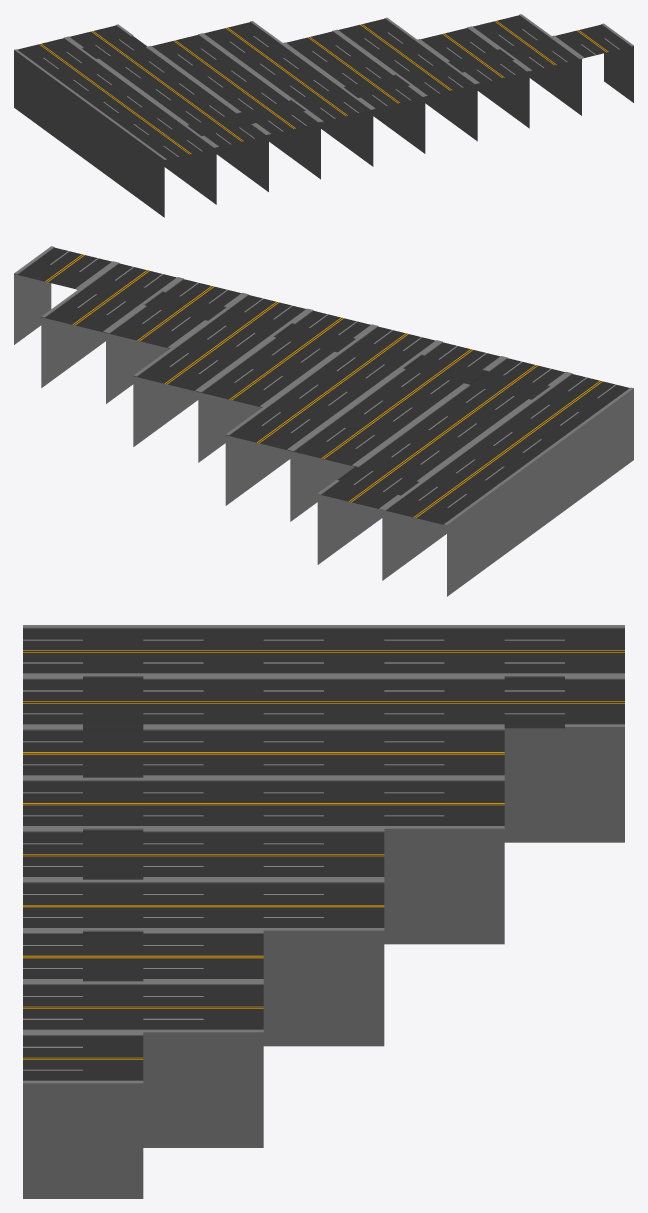
File: RoadSystemStraight.fbx
The picture shows the model from 3 angles, top to bottom: view 1: azimuth 30°, elevation 25°; view 2: azimuth 150°, elevation 25°; view 3: azimuth 270°, elevation 25°; orthographic projection. The views are drawn at different scales.
Parts seen in each view (by area): view 1: road_20x100(0)LOD0, road_20x100(4)LOD0, road_20x80(0)LOD0, road_20x80(2)LOD0, road_20x60(0)LOD0.001, road_20x40(2)LOD0, road_20x60(2)LOD0, road_20x40(2)LOD0.001, road_20x20(0)LOD0; view 2: road_20x100(0)LOD0, road_20x100(4)LOD0, road_20x80(0)LOD0, road_20x80(2)LOD0, road_20x60(0)LOD0.001, road_20x60(2)LOD0, road_20x40(2)LOD0.001, road_20x40(2)LOD0, road_20x20(0)LOD0; view 3: road_20x100(4)LOD0, road_20x80(0)LOD0, road_20x60(0)LOD0.001, road_20x100(0)LOD0, road_20x40(2)LOD0.001, road_20x80(2)LOD0, road_20x20(0)LOD0, road_20x60(2)LOD0, road_20x40(2)LOD0.
Part boxes in pixels (x1=…): road_20x100(0)LOD0: x1=14, y1=37, x2=216, y2=217; road_20x100(4)LOD0: x1=66, y1=24, x2=268, y2=204; road_20x80(0)LOD0: x1=201, y1=21, x2=373, y2=178; road_20x80(2)LOD0: x1=149, y1=33, x2=320, y2=190; road_20x60(0)LOD0.001: x1=335, y1=17, x2=477, y2=153; road_20x40(2)LOD0: x1=417, y1=27, x2=529, y2=137; road_20x60(2)LOD0: x1=283, y1=30, x2=425, y2=165; road_20x40(2)LOD0.001: x1=470, y1=14, x2=581, y2=115; road_20x20(0)LOD0: x1=551, y1=23, x2=633, y2=112; road_20x100(0)LOD0: x1=382, y1=372, x2=633, y2=596; road_20x100(4)LOD0: x1=317, y1=356, x2=568, y2=580; road_20x80(0)LOD0: x1=225, y1=325, x2=439, y2=512; road_20x80(2)LOD0: x1=290, y1=341, x2=503, y2=536; road_20x60(0)LOD0.001: x1=133, y1=293, x2=309, y2=454; road_20x60(2)LOD0: x1=198, y1=309, x2=374, y2=462; road_20x40(2)LOD0.001: x1=41, y1=262, x2=180, y2=402; road_20x40(2)LOD0: x1=106, y1=278, x2=245, y2=419; road_20x20(0)LOD0: x1=14, y1=246, x2=115, y2=360; road_20x100(4)LOD0: x1=23, y1=676, x2=624, y2=842; road_20x80(0)LOD0: x1=23, y1=777, x2=504, y2=944; road_20x60(0)LOD0.001: x1=23, y1=879, x2=384, y2=1046; road_20x100(0)LOD0: x1=23, y1=625, x2=624, y2=677; road_20x40(2)LOD0.001: x1=23, y1=981, x2=263, y2=1147; road_20x80(2)LOD0: x1=23, y1=727, x2=504, y2=777; road_20x20(0)LOD0: x1=23, y1=1032, x2=143, y2=1198; road_20x60(2)LOD0: x1=23, y1=828, x2=384, y2=879; road_20x40(2)LOD0: x1=23, y1=930, x2=263, y2=981.
Size of what is drawn, in the model's own units: 18000 by 2120 by 10000.
